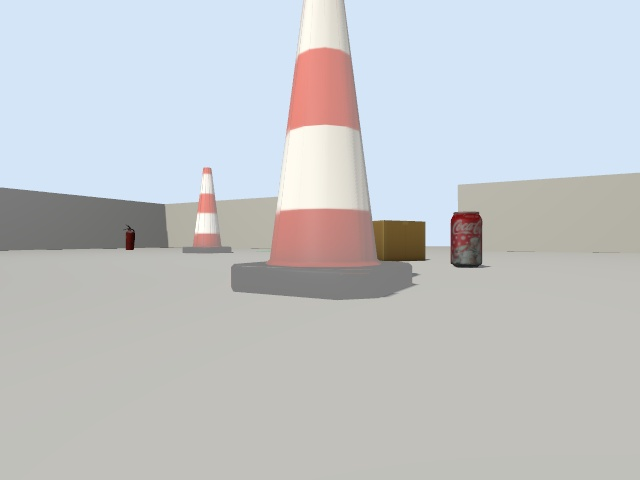canette: (450, 211, 482, 267)
carton: (372, 220, 425, 260)
cone_chantier: (231, 0, 410, 298), (183, 167, 231, 252)
extincteur: (124, 225, 134, 249)
